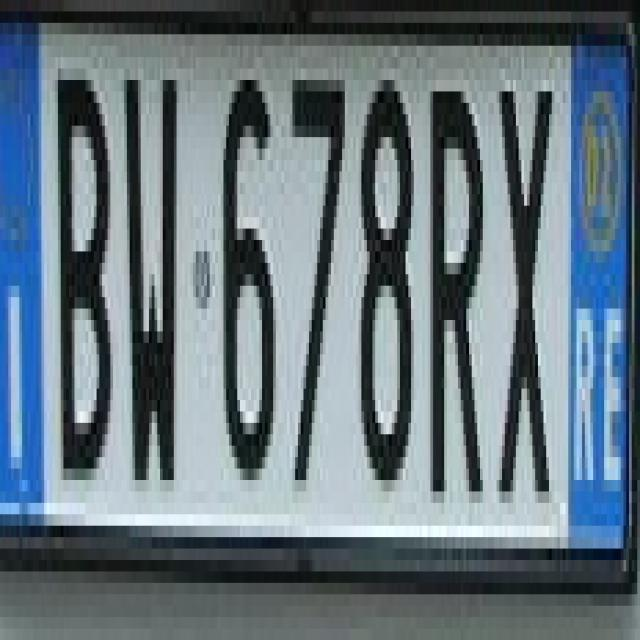6: (218, 46, 276, 480)
7: (281, 57, 345, 514)
8: (356, 46, 411, 503)
B: (50, 34, 122, 492)
X: (494, 57, 560, 514)
